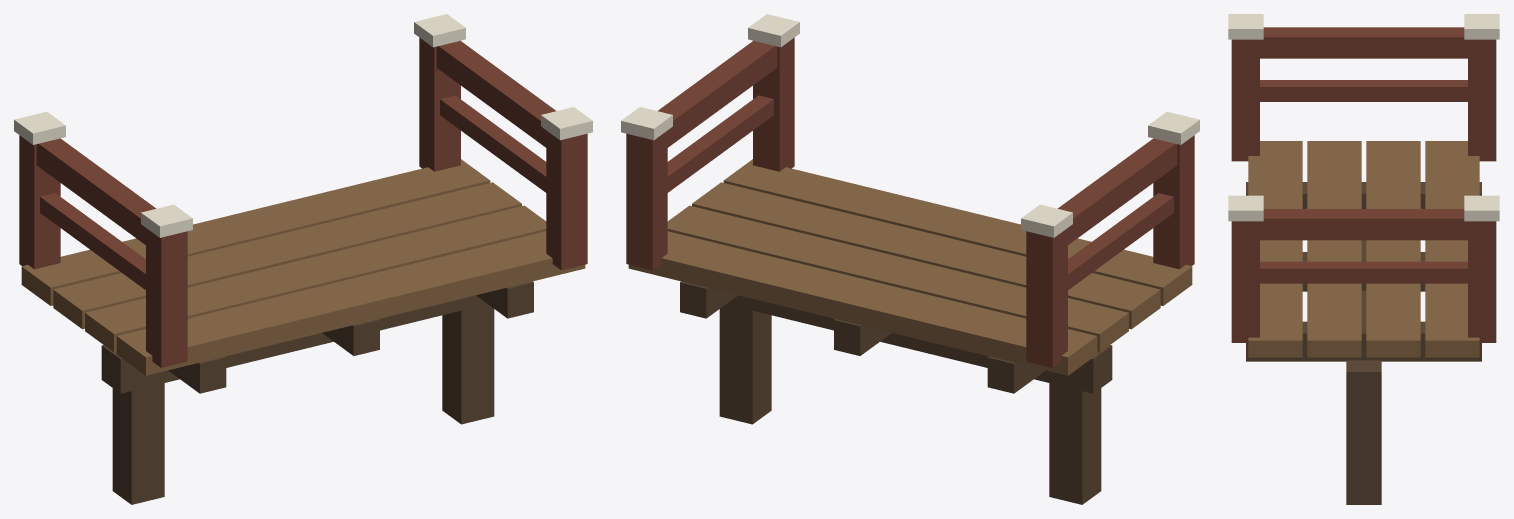
File: drawbridge-span.glb
3 renders of one model, left to right at view 1: azimuth 30°, elevation 25°; view 2: azimuth 150°, elevation 25°; view 3: azimuth 270°, elevation 25°, orthographic. The views are drawn at different scales.
Parts seen in each view (by area): view 1: drawbridge-span; view 2: drawbridge-span; view 3: drawbridge-span.
Boxes of the visible parts, x1,y1,x2,y2 form: drawbridge-span: (14,14,592,504); drawbridge-span: (621,14,1199,504); drawbridge-span: (1228,14,1499,504).
Size of the model in its own units: 4 by 2.9 by 2.3.
1 material, 1 textured.
